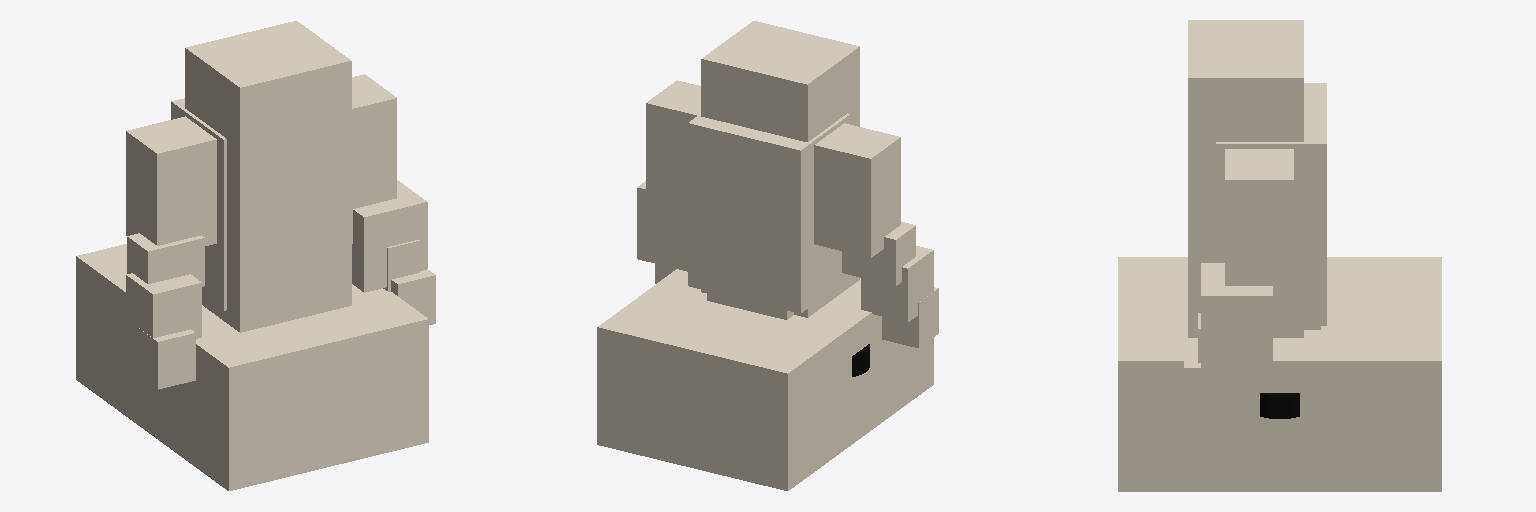
The robot description file, URDF, robot "galahad":
<?xml version="1.0"?>
<!-- Galahad companion robot - generated by tools/gen_urdf.py -->
<!-- Link frames and joint origins come from blender/galahad.blend (mm -> m).
     Masses and limits are engineering estimates, not measurements. -->
<robot name="galahad">
  <link name="base_link">
    <visual>
      <origin xyz="-0.0000 0.0000 0.0116" rpy="0 0 0"/>
      <geometry><box size="0.1409 0.1861 0.0832"/></geometry>
      <material name="ivory"><color rgba="0.93 0.89 0.82 1"/></material>
    </visual>
    <collision>
      <origin xyz="-0.0000 0.0000 0.0116" rpy="0 0 0"/>
      <geometry><box size="0.1409 0.1861 0.0832"/></geometry>
    </collision>
    <inertial>
      <origin xyz="-0.0000 0.0000 0.0116" rpy="0 0 0"/>
      <mass value="0.4600"/>
      <inertia ixx="0.001594" ixy="0" ixz="0" iyy="0.001026" iyz="0" izz="0.002089"/>
    </inertial>
  </link>
  <link name="waist_yaw">
    <visual>
      <origin xyz="0.0000 -0.0051 0.0110" rpy="0 0 0"/>
      <geometry><box size="0.0588 0.0571 0.0330"/></geometry>
      <material name="ivory"><color rgba="0.93 0.89 0.82 1"/></material>
    </visual>
    <collision>
      <origin xyz="0.0000 -0.0051 0.0110" rpy="0 0 0"/>
      <geometry><box size="0.0588 0.0571 0.0330"/></geometry>
    </collision>
    <inertial>
      <origin xyz="0.0000 -0.0051 0.0110" rpy="0 0 0"/>
      <mass value="0.0450"/>
      <inertia ixx="0.000016" ixy="0" ixz="0" iyy="0.000017" iyz="0" izz="0.000025"/>
    </inertial>
  </link>
  <link name="waist_pitch">
    <visual>
      <origin xyz="0.0000 0.0040 -0.0920" rpy="0 0 0"/>
      <geometry><box size="0.0600 0.0600 0.0400"/></geometry>
      <material name="ivory"><color rgba="0.93 0.89 0.82 1"/></material>
    </visual>
    <collision>
      <origin xyz="0.0000 0.0040 -0.0920" rpy="0 0 0"/>
      <geometry><box size="0.0600 0.0600 0.0400"/></geometry>
    </collision>
    <inertial>
      <origin xyz="0.0000 0.0040 -0.0920" rpy="0 0 0"/>
      <mass value="0.0350"/>
      <inertia ixx="0.000015" ixy="0" ixz="0" iyy="0.000015" iyz="0" izz="0.000021"/>
    </inertial>
  </link>
  <link name="torso">
    <visual>
      <origin xyz="0.0001 -0.0011 0.0296" rpy="0 0 0"/>
      <geometry><box size="0.0835 0.0638 0.1152"/></geometry>
      <material name="ivory"><color rgba="0.93 0.89 0.82 1"/></material>
    </visual>
    <collision>
      <origin xyz="0.0001 -0.0011 0.0296" rpy="0 0 0"/>
      <geometry><box size="0.0835 0.0638 0.1152"/></geometry>
    </collision>
    <inertial>
      <origin xyz="0.0001 -0.0011 0.0296" rpy="0 0 0"/>
      <mass value="0.3000"/>
      <inertia ixx="0.000433" ixy="0" ixz="0" iyy="0.000506" iyz="0" izz="0.000276"/>
    </inertial>
  </link>
  <link name="head_pan">
    <visual>
      <origin xyz="0.0000 0.0020 -0.1860" rpy="0 0 0"/>
      <geometry><box size="0.0600 0.0600 0.0400"/></geometry>
      <material name="ivory"><color rgba="0.93 0.89 0.82 1"/></material>
    </visual>
    <collision>
      <origin xyz="0.0000 0.0020 -0.1860" rpy="0 0 0"/>
      <geometry><box size="0.0600 0.0600 0.0400"/></geometry>
    </collision>
    <inertial>
      <origin xyz="0.0000 0.0020 -0.1860" rpy="0 0 0"/>
      <mass value="0.0200"/>
      <inertia ixx="0.000009" ixy="0" ixz="0" iyy="0.000009" iyz="0" izz="0.000012"/>
    </inertial>
  </link>
  <link name="head_tilt">
    <visual>
      <origin xyz="-0.0000 -0.0175 -0.0870" rpy="0 0 0"/>
      <geometry><box size="0.0785 0.0670 0.2540"/></geometry>
      <material name="ivory"><color rgba="0.93 0.89 0.82 1"/></material>
    </visual>
    <collision>
      <origin xyz="-0.0000 -0.0175 -0.0870" rpy="0 0 0"/>
      <geometry><box size="0.0785 0.0670 0.2540"/></geometry>
    </collision>
    <inertial>
      <origin xyz="-0.0000 -0.0175 -0.0870" rpy="0 0 0"/>
      <mass value="0.0850"/>
      <inertia ixx="0.000489" ixy="0" ixz="0" iyy="0.000501" iyz="0" izz="0.000075"/>
    </inertial>
  </link>
  <link name="shoulder_yaw_L">
    <visual>
      <origin xyz="0.0260 0.0040 -0.1680" rpy="0 0 0"/>
      <geometry><box size="0.0600 0.0600 0.0400"/></geometry>
      <material name="ivory"><color rgba="0.93 0.89 0.82 1"/></material>
    </visual>
    <collision>
      <origin xyz="0.0260 0.0040 -0.1680" rpy="0 0 0"/>
      <geometry><box size="0.0600 0.0600 0.0400"/></geometry>
    </collision>
    <inertial>
      <origin xyz="0.0260 0.0040 -0.1680" rpy="0 0 0"/>
      <mass value="0.0400"/>
      <inertia ixx="0.000017" ixy="0" ixz="0" iyy="0.000017" iyz="0" izz="0.000024"/>
    </inertial>
  </link>
  <link name="shoulder_pitch_L">
    <visual>
      <origin xyz="0.0029 -0.0056 -0.0069" rpy="0 0 0"/>
      <geometry><box size="0.0690 0.0384 0.0701"/></geometry>
      <material name="ivory"><color rgba="0.93 0.89 0.82 1"/></material>
    </visual>
    <collision>
      <origin xyz="0.0029 -0.0056 -0.0069" rpy="0 0 0"/>
      <geometry><box size="0.0690 0.0384 0.0701"/></geometry>
    </collision>
    <inertial>
      <origin xyz="0.0029 -0.0056 -0.0069" rpy="0 0 0"/>
      <mass value="0.0550"/>
      <inertia ixx="0.000029" ixy="0" ixz="0" iyy="0.000044" iyz="0" izz="0.000029"/>
    </inertial>
  </link>
  <link name="elbow_L">
    <visual>
      <origin xyz="-0.0024 -0.0141 -0.0041" rpy="0 0 0"/>
      <geometry><box size="0.0401 0.0259 0.0326"/></geometry>
      <material name="ivory"><color rgba="0.93 0.89 0.82 1"/></material>
    </visual>
    <collision>
      <origin xyz="-0.0024 -0.0141 -0.0041" rpy="0 0 0"/>
      <geometry><box size="0.0401 0.0259 0.0326"/></geometry>
    </collision>
    <inertial>
      <origin xyz="-0.0024 -0.0141 -0.0041" rpy="0 0 0"/>
      <mass value="0.0450"/>
      <inertia ixx="0.000006" ixy="0" ixz="0" iyy="0.000010" iyz="0" izz="0.000009"/>
    </inertial>
  </link>
  <link name="wrist_L">
    <visual>
      <origin xyz="0.0002 -0.0227 -0.0029" rpy="0 0 0"/>
      <geometry><box size="0.0346 0.0330 0.0381"/></geometry>
      <material name="ivory"><color rgba="0.93 0.89 0.82 1"/></material>
    </visual>
    <collision>
      <origin xyz="0.0002 -0.0227 -0.0029" rpy="0 0 0"/>
      <geometry><box size="0.0346 0.0330 0.0381"/></geometry>
    </collision>
    <inertial>
      <origin xyz="0.0002 -0.0227 -0.0029" rpy="0 0 0"/>
      <mass value="0.0300"/>
      <inertia ixx="0.000006" ixy="0" ixz="0" iyy="0.000007" iyz="0" izz="0.000006"/>
    </inertial>
  </link>
  <link name="gripper_L">
    <visual>
      <origin xyz="-0.0009 -0.0283 -0.0094" rpy="0 0 0"/>
      <geometry><box size="0.0268 0.0256 0.0321"/></geometry>
      <material name="ivory"><color rgba="0.93 0.89 0.82 1"/></material>
    </visual>
    <collision>
      <origin xyz="-0.0009 -0.0283 -0.0094" rpy="0 0 0"/>
      <geometry><box size="0.0268 0.0256 0.0321"/></geometry>
    </collision>
    <inertial>
      <origin xyz="-0.0009 -0.0283 -0.0094" rpy="0 0 0"/>
      <mass value="0.0350"/>
      <inertia ixx="0.000005" ixy="0" ixz="0" iyy="0.000005" iyz="0" izz="0.000004"/>
    </inertial>
  </link>
  <link name="shoulder_yaw_R">
    <visual>
      <origin xyz="-0.0260 0.0040 -0.1680" rpy="0 0 0"/>
      <geometry><box size="0.0600 0.0600 0.0400"/></geometry>
      <material name="ivory"><color rgba="0.93 0.89 0.82 1"/></material>
    </visual>
    <collision>
      <origin xyz="-0.0260 0.0040 -0.1680" rpy="0 0 0"/>
      <geometry><box size="0.0600 0.0600 0.0400"/></geometry>
    </collision>
    <inertial>
      <origin xyz="-0.0260 0.0040 -0.1680" rpy="0 0 0"/>
      <mass value="0.0400"/>
      <inertia ixx="0.000017" ixy="0" ixz="0" iyy="0.000017" iyz="0" izz="0.000024"/>
    </inertial>
  </link>
  <link name="shoulder_pitch_R">
    <visual>
      <origin xyz="-0.0028 -0.0079 -0.0173" rpy="0 0 0"/>
      <geometry><box size="0.0690 0.0398 0.0906"/></geometry>
      <material name="ivory"><color rgba="0.93 0.89 0.82 1"/></material>
    </visual>
    <collision>
      <origin xyz="-0.0028 -0.0079 -0.0173" rpy="0 0 0"/>
      <geometry><box size="0.0690 0.0398 0.0906"/></geometry>
    </collision>
    <inertial>
      <origin xyz="-0.0028 -0.0079 -0.0173" rpy="0 0 0"/>
      <mass value="0.0550"/>
      <inertia ixx="0.000045" ixy="0" ixz="0" iyy="0.000059" iyz="0" izz="0.000029"/>
    </inertial>
  </link>
  <link name="elbow_R">
    <visual>
      <origin xyz="0.0047 -0.0187 -0.0188" rpy="0 0 0"/>
      <geometry><box size="0.0447 0.0418 0.0507"/></geometry>
      <material name="ivory"><color rgba="0.93 0.89 0.82 1"/></material>
    </visual>
    <collision>
      <origin xyz="0.0047 -0.0187 -0.0188" rpy="0 0 0"/>
      <geometry><box size="0.0447 0.0418 0.0507"/></geometry>
    </collision>
    <inertial>
      <origin xyz="0.0047 -0.0187 -0.0188" rpy="0 0 0"/>
      <mass value="0.0450"/>
      <inertia ixx="0.000016" ixy="0" ixz="0" iyy="0.000017" iyz="0" izz="0.000014"/>
    </inertial>
  </link>
  <link name="wrist_R">
    <visual>
      <origin xyz="-0.0003 -0.0234 -0.0067" rpy="0 0 0"/>
      <geometry><box size="0.0225 0.0318 0.0308"/></geometry>
      <material name="ivory"><color rgba="0.93 0.89 0.82 1"/></material>
    </visual>
    <collision>
      <origin xyz="-0.0003 -0.0234 -0.0067" rpy="0 0 0"/>
      <geometry><box size="0.0225 0.0318 0.0308"/></geometry>
    </collision>
    <inertial>
      <origin xyz="-0.0003 -0.0234 -0.0067" rpy="0 0 0"/>
      <mass value="0.0300"/>
      <inertia ixx="0.000005" ixy="0" ixz="0" iyy="0.000004" iyz="0" izz="0.000004"/>
    </inertial>
  </link>
  <link name="gripper_R">
    <visual>
      <origin xyz="0.0009 -0.0294 -0.0092" rpy="0 0 0"/>
      <geometry><box size="0.0269 0.0275 0.0327"/></geometry>
      <material name="ivory"><color rgba="0.93 0.89 0.82 1"/></material>
    </visual>
    <collision>
      <origin xyz="0.0009 -0.0294 -0.0092" rpy="0 0 0"/>
      <geometry><box size="0.0269 0.0275 0.0327"/></geometry>
    </collision>
    <inertial>
      <origin xyz="0.0009 -0.0294 -0.0092" rpy="0 0 0"/>
      <mass value="0.0350"/>
      <inertia ixx="0.000005" ixy="0" ixz="0" iyy="0.000005" iyz="0" izz="0.000004"/>
    </inertial>
  </link>
  <joint name="waist_yaw_joint" type="revolute">
    <parent link="base_link"/>
    <child link="waist_yaw"/>
    <origin xyz="0.0000 0.0000 0.0580" rpy="0 0 0"/>
    <axis xyz="0 0 1"/>
    <limit lower="-1.5708" upper="1.5708" effort="0.93" velocity="0.3491"/>
  </joint>
  <joint name="waist_pitch_joint" type="revolute">
    <parent link="waist_yaw"/>
    <child link="waist_pitch"/>
    <origin xyz="0.0000 -0.0040 0.0120" rpy="0 0 0"/>
    <axis xyz="1 0 0"/>
    <limit lower="-0.3491" upper="0.3491" effort="0.93" velocity="0.2618"/>
  </joint>
  <joint name="torso_joint" type="fixed">
    <parent link="waist_pitch"/>
    <child link="torso"/>
    <origin xyz="0.0000 0.0000 0.0200" rpy="0 0 0"/>
  </joint>
  <joint name="head_pan_joint" type="revolute">
    <parent link="torso"/>
    <child link="head_pan"/>
    <origin xyz="0.0000 0.0020 0.0740" rpy="0 0 0"/>
    <axis xyz="0 0 1"/>
    <limit lower="-1.3963" upper="1.3963" effort="0.93" velocity="1.0472"/>
  </joint>
  <joint name="head_tilt_joint" type="revolute">
    <parent link="head_pan"/>
    <child link="head_tilt"/>
    <origin xyz="0.0000 0.0000 0.0140" rpy="0 0 0"/>
    <axis xyz="1 0 0"/>
    <limit lower="-0.4363" upper="0.6109" effort="0.93" velocity="1.0472"/>
  </joint>
  <joint name="shoulder_yaw_L_joint" type="revolute">
    <parent link="torso"/>
    <child link="shoulder_yaw_L"/>
    <origin xyz="-0.0260 0.0000 0.0560" rpy="0 0 0"/>
    <axis xyz="0 0 1"/>
    <limit lower="-1.3963" upper="1.3963" effort="0.93" velocity="0.6981"/>
  </joint>
  <joint name="shoulder_pitch_L_joint" type="revolute">
    <parent link="shoulder_yaw_L"/>
    <child link="shoulder_pitch_L"/>
    <origin xyz="-0.0260 0.0000 0.0000" rpy="0 0 0"/>
    <axis xyz="0 1 0"/>
    <limit lower="-1.7453" upper="1.6581" effort="0.93" velocity="0.6981"/>
  </joint>
  <joint name="elbow_L_joint" type="revolute">
    <parent link="shoulder_pitch_L"/>
    <child link="elbow_L"/>
    <origin xyz="-0.0180 -0.0020 -0.0460" rpy="0 0 0"/>
    <axis xyz="0 1 0"/>
    <limit lower="-2.0944" upper="1.5708" effort="0.93" velocity="0.6981"/>
  </joint>
  <joint name="wrist_L_joint" type="revolute">
    <parent link="elbow_L"/>
    <child link="wrist_L"/>
    <origin xyz="-0.0100 -0.0020 -0.0260" rpy="0 0 0"/>
    <axis xyz="0 1 0"/>
    <limit lower="-1.5708" upper="1.5708" effort="0.93" velocity="1.0472"/>
  </joint>
  <joint name="gripper_L_joint" type="revolute">
    <parent link="wrist_L"/>
    <child link="gripper_L"/>
    <origin xyz="-0.0030 -0.0040 -0.0200" rpy="0 0 0"/>
    <axis xyz="0 1 0"/>
    <limit lower="0.0000" upper="0.9599" effort="0.93" velocity="0.6981"/>
  </joint>
  <joint name="shoulder_yaw_R_joint" type="revolute">
    <parent link="torso"/>
    <child link="shoulder_yaw_R"/>
    <origin xyz="0.0260 0.0000 0.0560" rpy="0 0 0"/>
    <axis xyz="0 0 1"/>
    <limit lower="-1.3963" upper="1.3963" effort="0.93" velocity="0.6981"/>
  </joint>
  <joint name="shoulder_pitch_R_joint" type="revolute">
    <parent link="shoulder_yaw_R"/>
    <child link="shoulder_pitch_R"/>
    <origin xyz="0.0260 0.0000 0.0000" rpy="0 0 0"/>
    <axis xyz="0 1 0"/>
    <limit lower="-1.7453" upper="1.6581" effort="0.93" velocity="0.6981"/>
  </joint>
  <joint name="elbow_R_joint" type="revolute">
    <parent link="shoulder_pitch_R"/>
    <child link="elbow_R"/>
    <origin xyz="0.0180 -0.0020 -0.0460" rpy="0 0 0"/>
    <axis xyz="0 1 0"/>
    <limit lower="-2.0944" upper="1.5708" effort="0.93" velocity="0.6981"/>
  </joint>
  <joint name="wrist_R_joint" type="revolute">
    <parent link="elbow_R"/>
    <child link="wrist_R"/>
    <origin xyz="0.0100 -0.0020 -0.0260" rpy="0 0 0"/>
    <axis xyz="0 1 0"/>
    <limit lower="-1.5708" upper="1.5708" effort="0.93" velocity="1.0472"/>
  </joint>
  <joint name="gripper_R_joint" type="revolute">
    <parent link="wrist_R"/>
    <child link="gripper_R"/>
    <origin xyz="0.0030 -0.0040 -0.0200" rpy="0 0 0"/>
    <axis xyz="0 1 0"/>
    <limit lower="0.0000" upper="0.9599" effort="0.93" velocity="0.6981"/>
  </joint>
  <joint name="tread_L_joint" type="continuous">
    <parent link="base_link"/>
    <child link="tread_L"/>
    <origin xyz="-0.055 0 0.025" rpy="0 0 0"/>
    <axis xyz="0 1 0"/>
    <limit effort="0.16" velocity="34.6"/>
  </joint>
  <link name="tread_L">
    <visual><geometry><cylinder radius="0.0195" length="0.0146"/></geometry><material name="rubber"><color rgba="0.08 0.08 0.09 1"/></material></visual>
    <collision><geometry><cylinder radius="0.0195" length="0.0146"/></geometry></collision>
    <inertial><mass value="0.02"/><inertia ixx="0.0000019" ixy="0" ixz="0" iyy="0.0000019" iyz="0" izz="0.0000019"/></inertial>
  </link>
  <joint name="tread_R_joint" type="continuous">
    <parent link="base_link"/>
    <child link="tread_R"/>
    <origin xyz="0.055 0 0.025" rpy="0 0 0"/>
    <axis xyz="0 1 0"/>
    <limit effort="0.16" velocity="34.6"/>
  </joint>
  <link name="tread_R">
    <visual><geometry><cylinder radius="0.0195" length="0.0146"/></geometry><material name="rubber"><color rgba="0.08 0.08 0.09 1"/></material></visual>
    <collision><geometry><cylinder radius="0.0195" length="0.0146"/></geometry></collision>
    <inertial><mass value="0.02"/><inertia ixx="0.0000019" ixy="0" ixz="0" iyy="0.0000019" iyz="0" izz="0.0000019"/></inertial>
  </link>
</robot>

--- What the picture shows (computed from the rendered views, not written in the file) ---
3 views of the same robot in one strip: view 1: azimuth 30°, elevation 25°; view 2: azimuth 150°, elevation 25°; view 3: azimuth 270°, elevation 25° (orthographic).
Model galahad with 18 links and 17 joints (14 revolute, 2 continuous, 1 fixed), rooted at base_link, posed every joint at zero.
Visible links, largest first — view 1: base_link, head_tilt, shoulder_pitch_L, shoulder_pitch_R, elbow_R, wrist_L, elbow_L, gripper_L, torso, gripper_R, wrist_R; view 2: base_link, torso, head_tilt, shoulder_pitch_L, shoulder_pitch_R, wrist_L, elbow_L, elbow_R, gripper_L, waist_yaw; view 3: base_link, head_tilt, shoulder_pitch_R, torso, elbow_R, gripper_R, tread_R.
Boxes of the visible links, <box> form: base_link: <box>76,244,428,490</box>; head_tilt: <box>185,21,351,332</box>; shoulder_pitch_L: <box>126,116,216,245</box>; shoulder_pitch_R: <box>352,74,396,243</box>; elbow_R: <box>352,180,427,292</box>; wrist_L: <box>126,273,201,338</box>; elbow_L: <box>127,233,204,286</box>; gripper_L: <box>137,327,195,389</box>; torso: <box>171,98,226,310</box>; gripper_R: <box>391,269,435,324</box>; wrist_R: <box>383,240,419,291</box>; base_link: <box>597,269,933,490</box>; torso: <box>688,113,850,313</box>; head_tilt: <box>701,21,859,317</box>; shoulder_pitch_L: <box>814,123,900,257</box>; shoulder_pitch_R: <box>646,80,700,240</box>; wrist_L: <box>861,246,933,322</box>; elbow_L: <box>842,222,915,285</box>; elbow_R: <box>637,181,687,271</box>; gripper_L: <box>882,287,938,347</box>; waist_yaw: <box>707,291,793,319</box>; base_link: <box>1118,257,1441,491</box>; head_tilt: <box>1188,20,1303,337</box>; shoulder_pitch_R: <box>1225,149,1293,322</box>; torso: <box>1216,83,1326,325</box>; elbow_R: <box>1201,263,1272,375</box>; gripper_R: <box>1184,348,1231,418</box>; tread_R: <box>1260,393,1299,418</box>.
Size in the robot's own frame: 0.1946 by 0.1861 by 0.26 metres.
Geometry: primitives only (box / cylinder / sphere), no mesh files.
